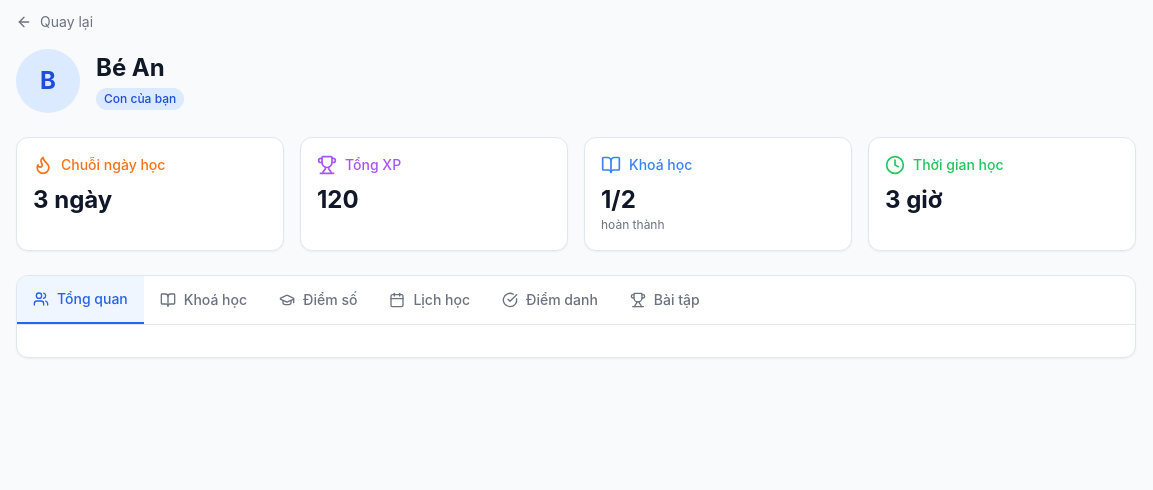
it: ChildDetailPage — tab Điểm số › cột 'Chấm bởi' hiện tên người chấm, và '—' khi không có tên
What coordinates should you click on to do the following:
click the tab "Điểm số"
I would click on:
 (318, 300)
Its box is [263,276,373,324].
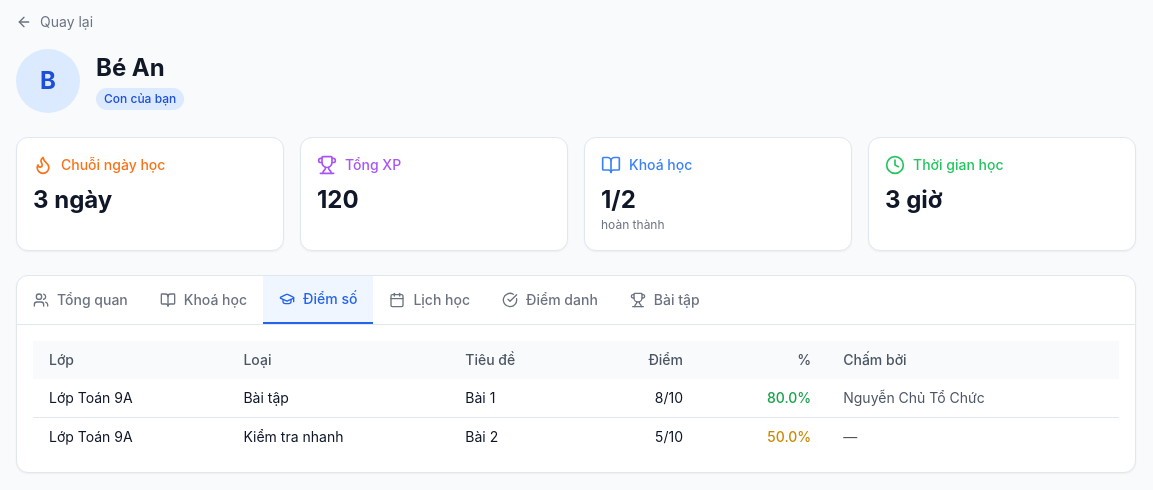
Expected: the column heading "Chấm bởi" is shown, [827,341,1119,379]
Expected: the text "Nguyễn Chủ Tổ Chức" is shown, [827,379,1119,418]
Expected: the text "—" is shown, [827,418,1119,456]
